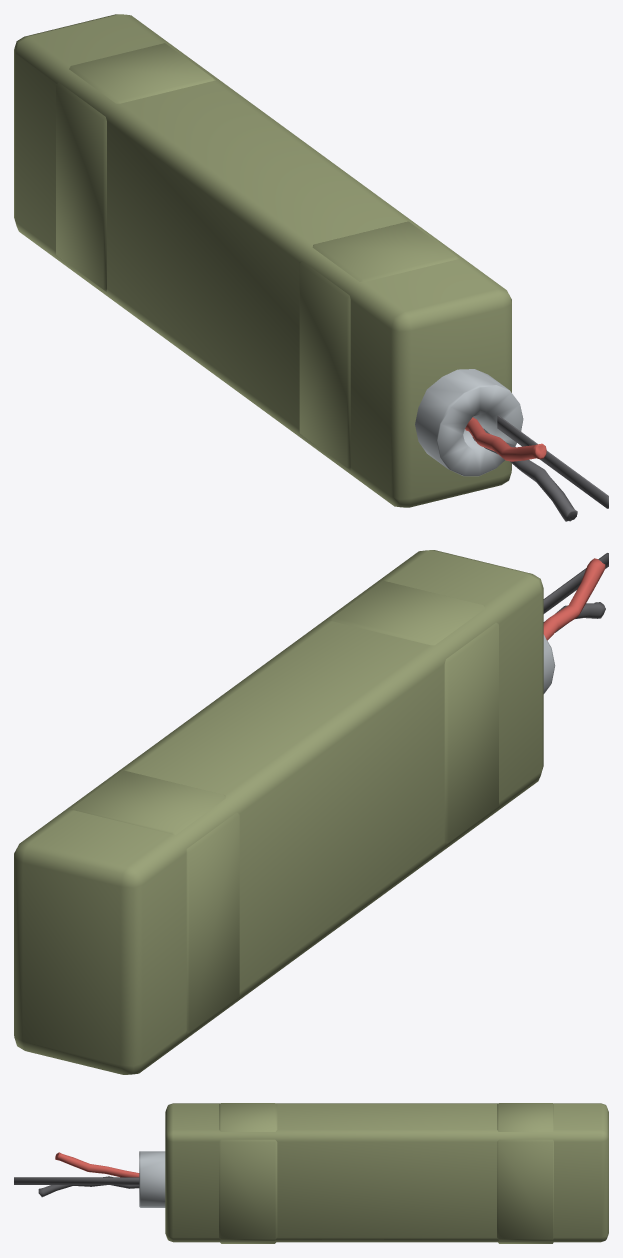
The model's file is c4_block.glb.
3 renders of one model, top to bottom at view 1: azimuth 30°, elevation 25°; view 2: azimuth 150°, elevation 25°; view 3: azimuth 270°, elevation 25°, orthographic. The views are drawn at different scales.
Visible parts, largest first — view 1: c4_block; view 2: c4_block; view 3: c4_block.
Boxes of the visible parts, x1,y1,x2,y2 form: c4_block: (14,14,608,521); c4_block: (14,550,608,1074); c4_block: (14,1103,608,1243).
Bounding box in the file's own units: 0.0356 × 0.0552 × 0.2593.
